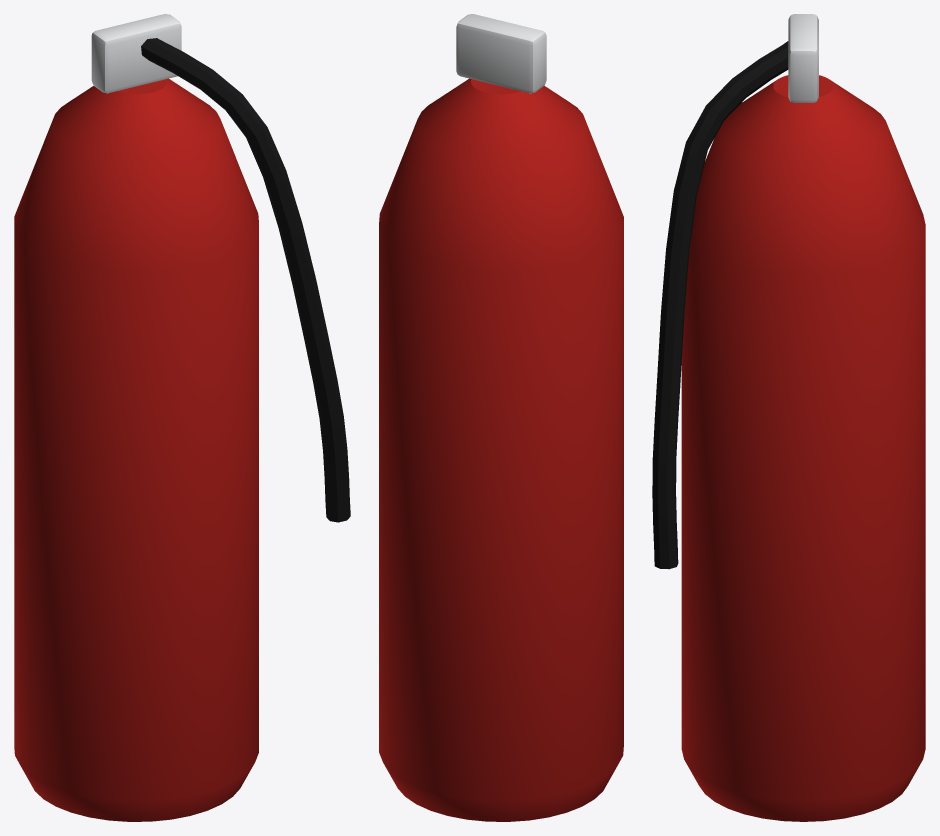
Rendered from extinguisher.glb.
3 views of the same model, side by side, from view 1: azimuth 30°, elevation 25°; view 2: azimuth 150°, elevation 25°; view 3: azimuth 270°, elevation 25° (orthographic).
Visible parts, largest first — view 1: red; view 2: red; view 3: red.
Part boxes in pixels (x1,y1,x2,y2): red: [14, 14, 350, 821]; red: [379, 14, 623, 821]; red: [652, 14, 925, 821].
Bounding box in the file's own units: 0.1877 × 0.54 × 0.1792.
